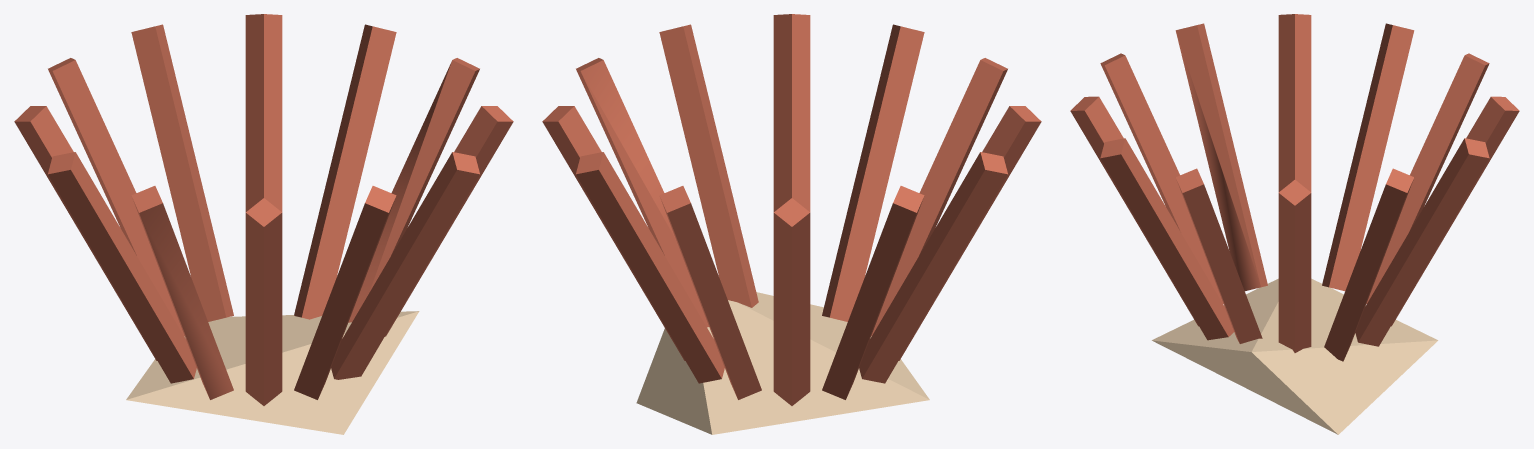
Rendered from reef.anemone.lod2.glb.
The picture shows the model from 3 angles, left to right: view 1: azimuth 30°, elevation 25°; view 2: azimuth 150°, elevation 25°; view 3: azimuth 270°, elevation 25°; orthographic projection. The views are drawn at different scales.
Visible parts, largest first — view 1: Foot, Tentacle.003, Tentacle.001, Tentacle.006, Tentacle.010, Tentacle.008, Tentacle.002, Tentacle.004, Tentacle, Tentacle.007, Tentacle.009, Tentacle.005 (+1 smaller); view 2: Foot, Tentacle.009, Tentacle.011, Tentacle.002, Tentacle.006, Tentacle.004, Tentacle.010, Tentacle.008, Tentacle, Tentacle.003, Tentacle.005, Tentacle.001 (+1 smaller); view 3: Foot, Tentacle.005, Tentacle.007, Tentacle.002, Tentacle.010, Tentacle.006, Tentacle, Tentacle.004, Tentacle.008, Tentacle.001, Tentacle.011, Tentacle.003 (+1 smaller).
Boxes of the visible parts, left/top/right/bottom form: Foot: left=126, top=311, right=419, bottom=434; Tentacle.003: left=131, top=24, right=233, bottom=321; Tentacle.001: left=294, top=24, right=396, bottom=319; Tentacle.006: left=47, top=152, right=196, bottom=383; Tentacle.010: left=331, top=152, right=480, bottom=379; Tentacle.008: left=245, top=198, right=282, bottom=405; Tentacle.002: left=245, top=14, right=282, bottom=211; Tentacle.004: left=48, top=58, right=184, bottom=336; Tentacle: left=348, top=58, right=479, bottom=322; Tentacle.007: left=131, top=186, right=233, bottom=399; Tentacle.009: left=294, top=186, right=396, bottom=399; Tentacle.005: left=14, top=106, right=157, bottom=360; Foot: left=636, top=292, right=929, bottom=434; Tentacle.009: left=822, top=24, right=924, bottom=321; Tentacle.011: left=659, top=24, right=758, bottom=307; Tentacle.002: left=575, top=152, right=724, bottom=383; Tentacle.006: left=859, top=152, right=1008, bottom=383; Tentacle.004: left=773, top=198, right=810, bottom=405; Tentacle.010: left=773, top=14, right=810, bottom=211; Tentacle.008: left=871, top=58, right=1007, bottom=336; Tentacle: left=576, top=58, right=708, bottom=327; Tentacle.003: left=659, top=186, right=761, bottom=399; Tentacle.005: left=822, top=186, right=924, bottom=399; Tentacle.001: left=542, top=106, right=685, bottom=360; Foot: left=1152, top=278, right=1438, bottom=434; Tentacle.005: left=1322, top=23, right=1414, bottom=291; Tentacle.007: left=1175, top=23, right=1267, bottom=291; Tentacle.002: left=1355, top=138, right=1489, bottom=346; Tentacle.010: left=1100, top=138, right=1233, bottom=340; Tentacle.006: left=1278, top=14, right=1311, bottom=191; Tentacle: left=1278, top=180, right=1311, bottom=352; Tentacle.004: left=1366, top=53, right=1489, bottom=303; Tentacle.008: left=1100, top=53, right=1223, bottom=303; Tentacle.001: left=1324, top=168, right=1414, bottom=361; Tentacle.011: left=1175, top=168, right=1262, bottom=343; Tentacle.003: left=1391, top=96, right=1519, bottom=326.
Size of the model in its own units: 0.4917 by 0.3385 by 0.4917.
